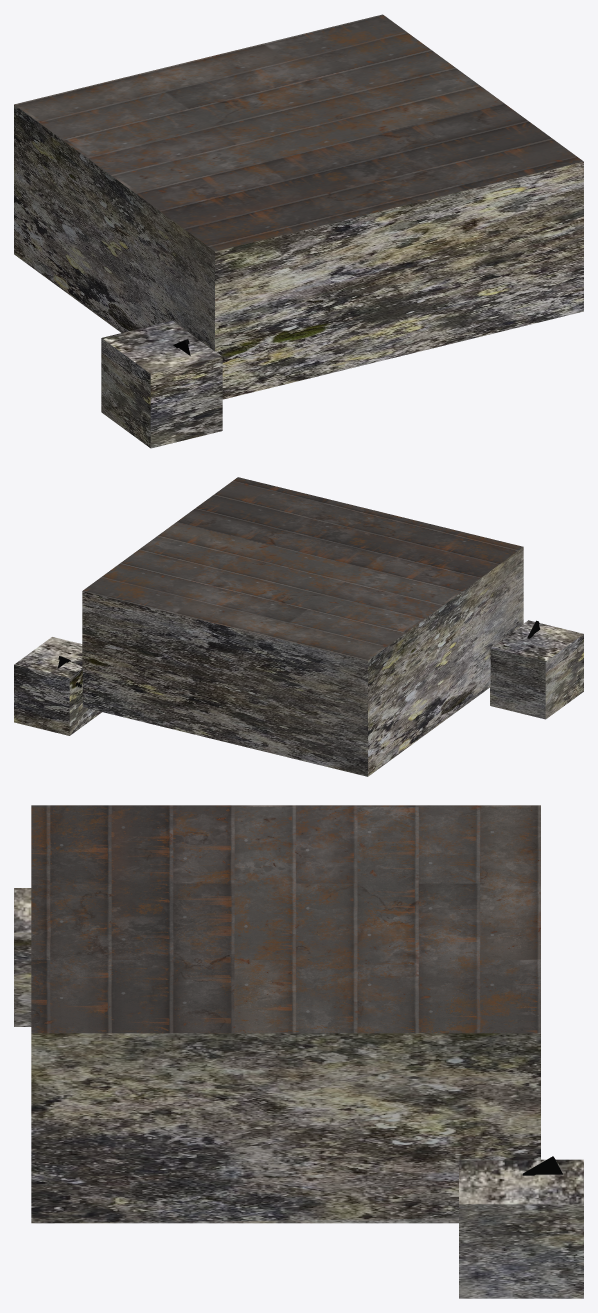
File: Floor 3.glb
3 views of the same model, one above another, from view 1: azimuth 30°, elevation 25°; view 2: azimuth 150°, elevation 25°; view 3: azimuth 270°, elevation 25° (orthographic). The views are drawn at different scales.
Visible parts, largest first — view 1: Cube; view 2: Cube; view 3: Cube.
Boxes of the visible parts, <box> form: Cube: <box>14,14,583,448</box>; Cube: <box>14,477,583,776</box>; Cube: <box>14,805,583,1298</box>.
Bounding box in the file's own units: 97.07 × 31.68 × 73.95.
Materials: 10 (2 with a texture image).
